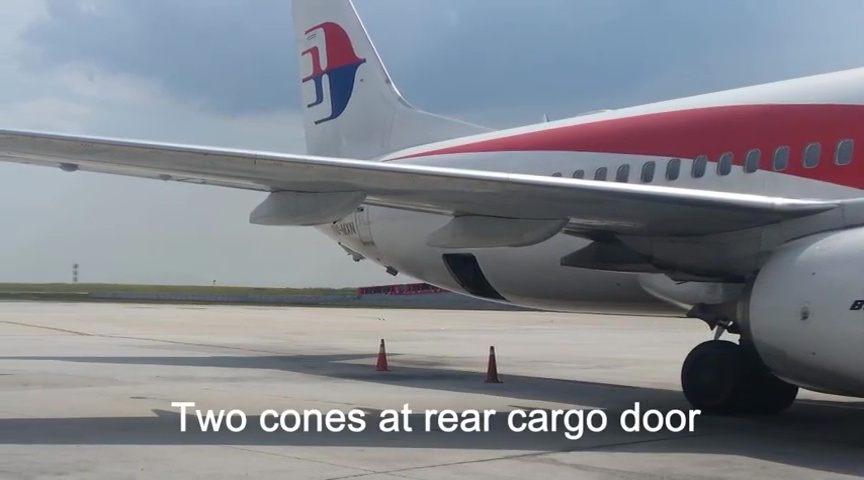safety_cone: (481, 344, 504, 384), (371, 338, 391, 372)
